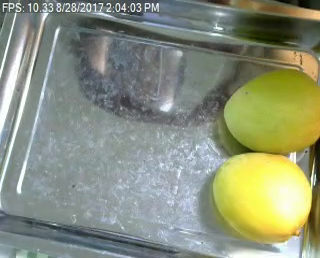Mango: (208, 149, 316, 241), (218, 72, 320, 156)
